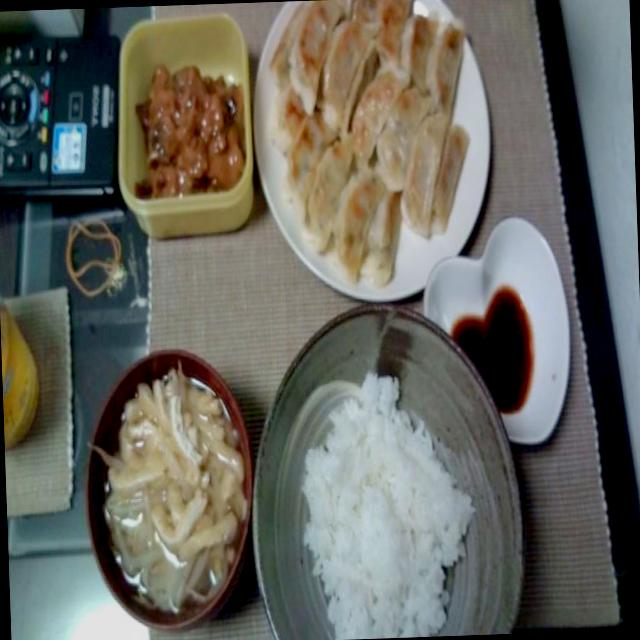Rice: (288, 360, 468, 640)
